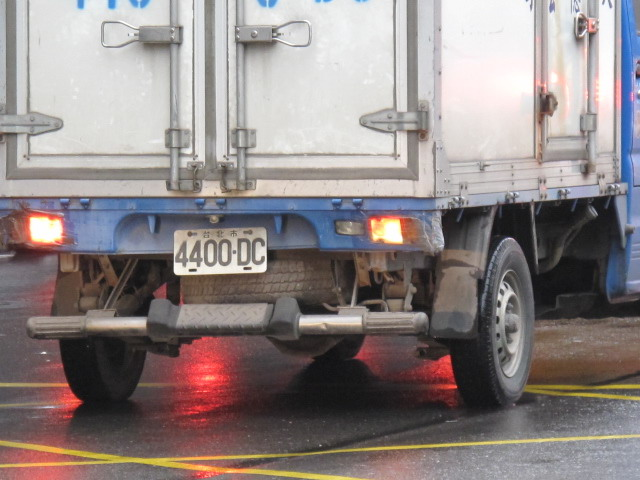plate: (171, 228, 270, 276)
